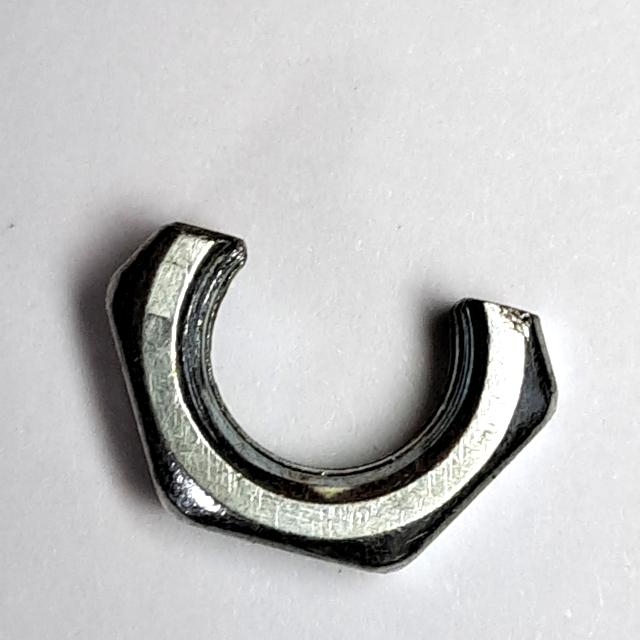Fracture: (94, 207, 569, 589)
